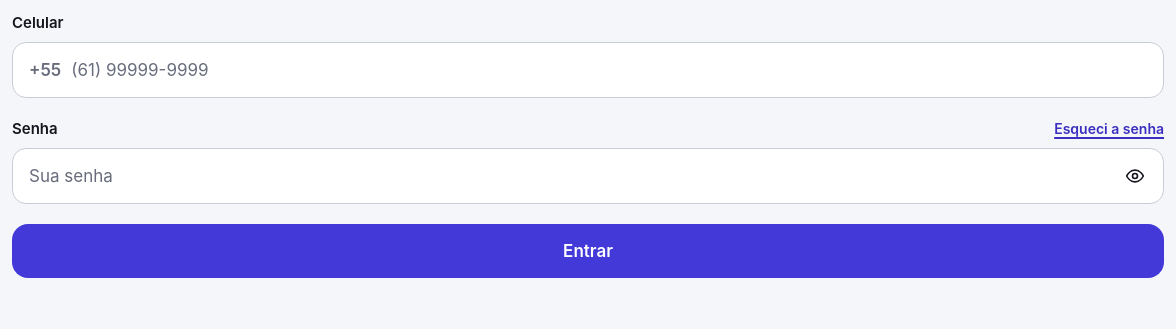
Scenario: LoginForm, as a person signs in › a half-typed phone is stopped next to the field, and nothing is sent
In the field labelled "Celular": [609, 70] box [71,44,1147,96], type "619"
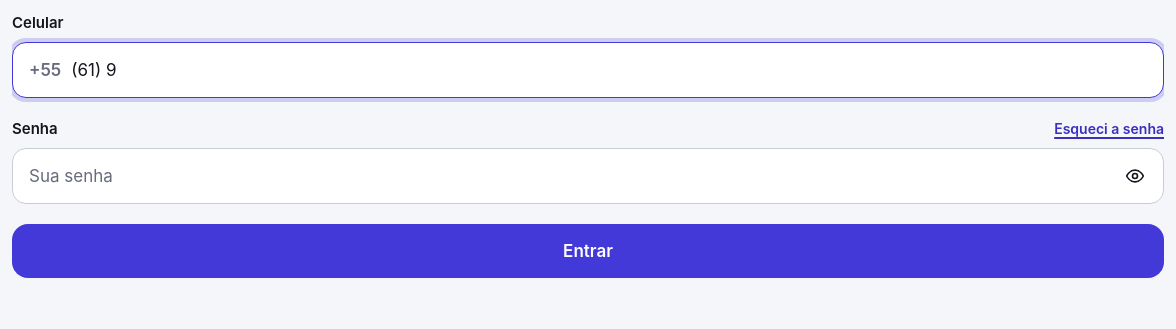
Click the button "Entrar": [588, 251] box [12,224,1164,278]
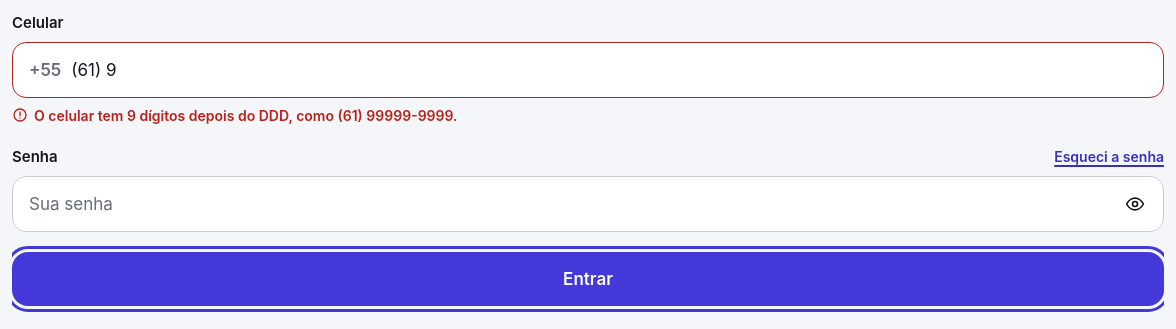
expect the text "O celular tem 9 dígitos depois do DDD, como (61) 99999-9999." is shown: met, box [12,107,458,124]
